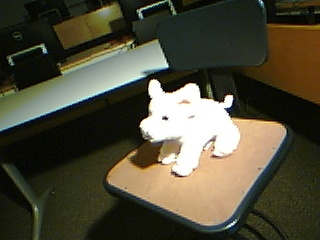piggy: (138, 78, 242, 179)
